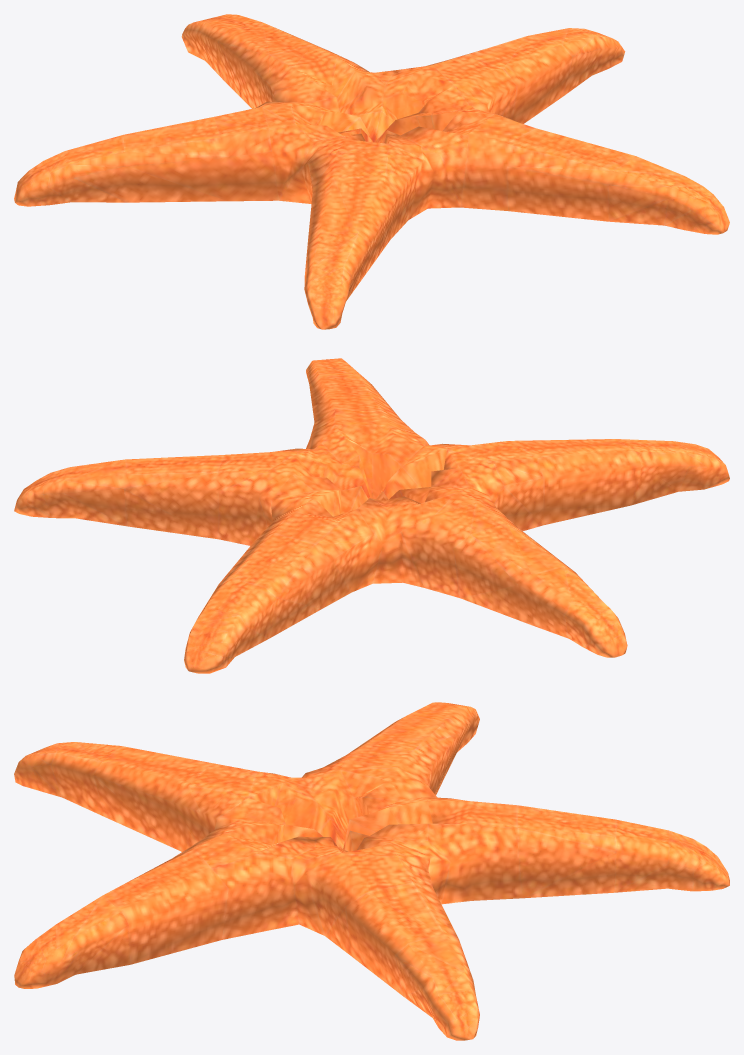
The model's file is starfish.glb.
3 renders of one model, top to bottom at view 1: azimuth 30°, elevation 25°; view 2: azimuth 150°, elevation 25°; view 3: azimuth 270°, elevation 25°, orthographic. The views are drawn at different scales.
Parts seen in each view (by area): view 1: geometry_0; view 2: geometry_0; view 3: geometry_0.
Boxes of the visible parts, bbox=[...] form: geometry_0: bbox=[14, 14, 729, 329]; geometry_0: bbox=[14, 358, 729, 673]; geometry_0: bbox=[14, 702, 729, 1040].
Size of the model in its own units: 0.3 by 0.0313 by 0.2859.
1 material, 1 textured.
